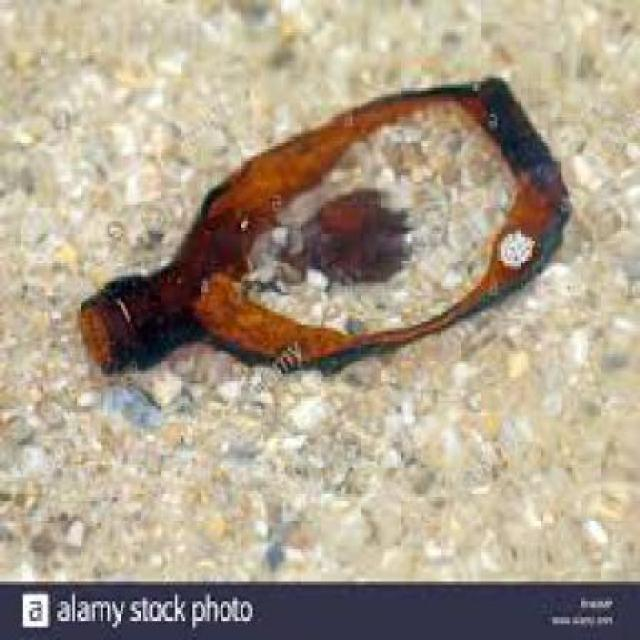kaca: (78, 75, 571, 371), (296, 189, 412, 283)
